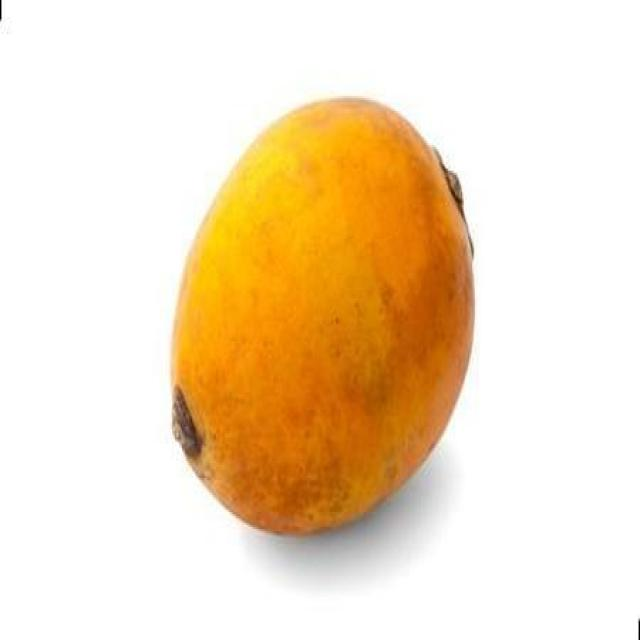good: (169, 98, 476, 538)
